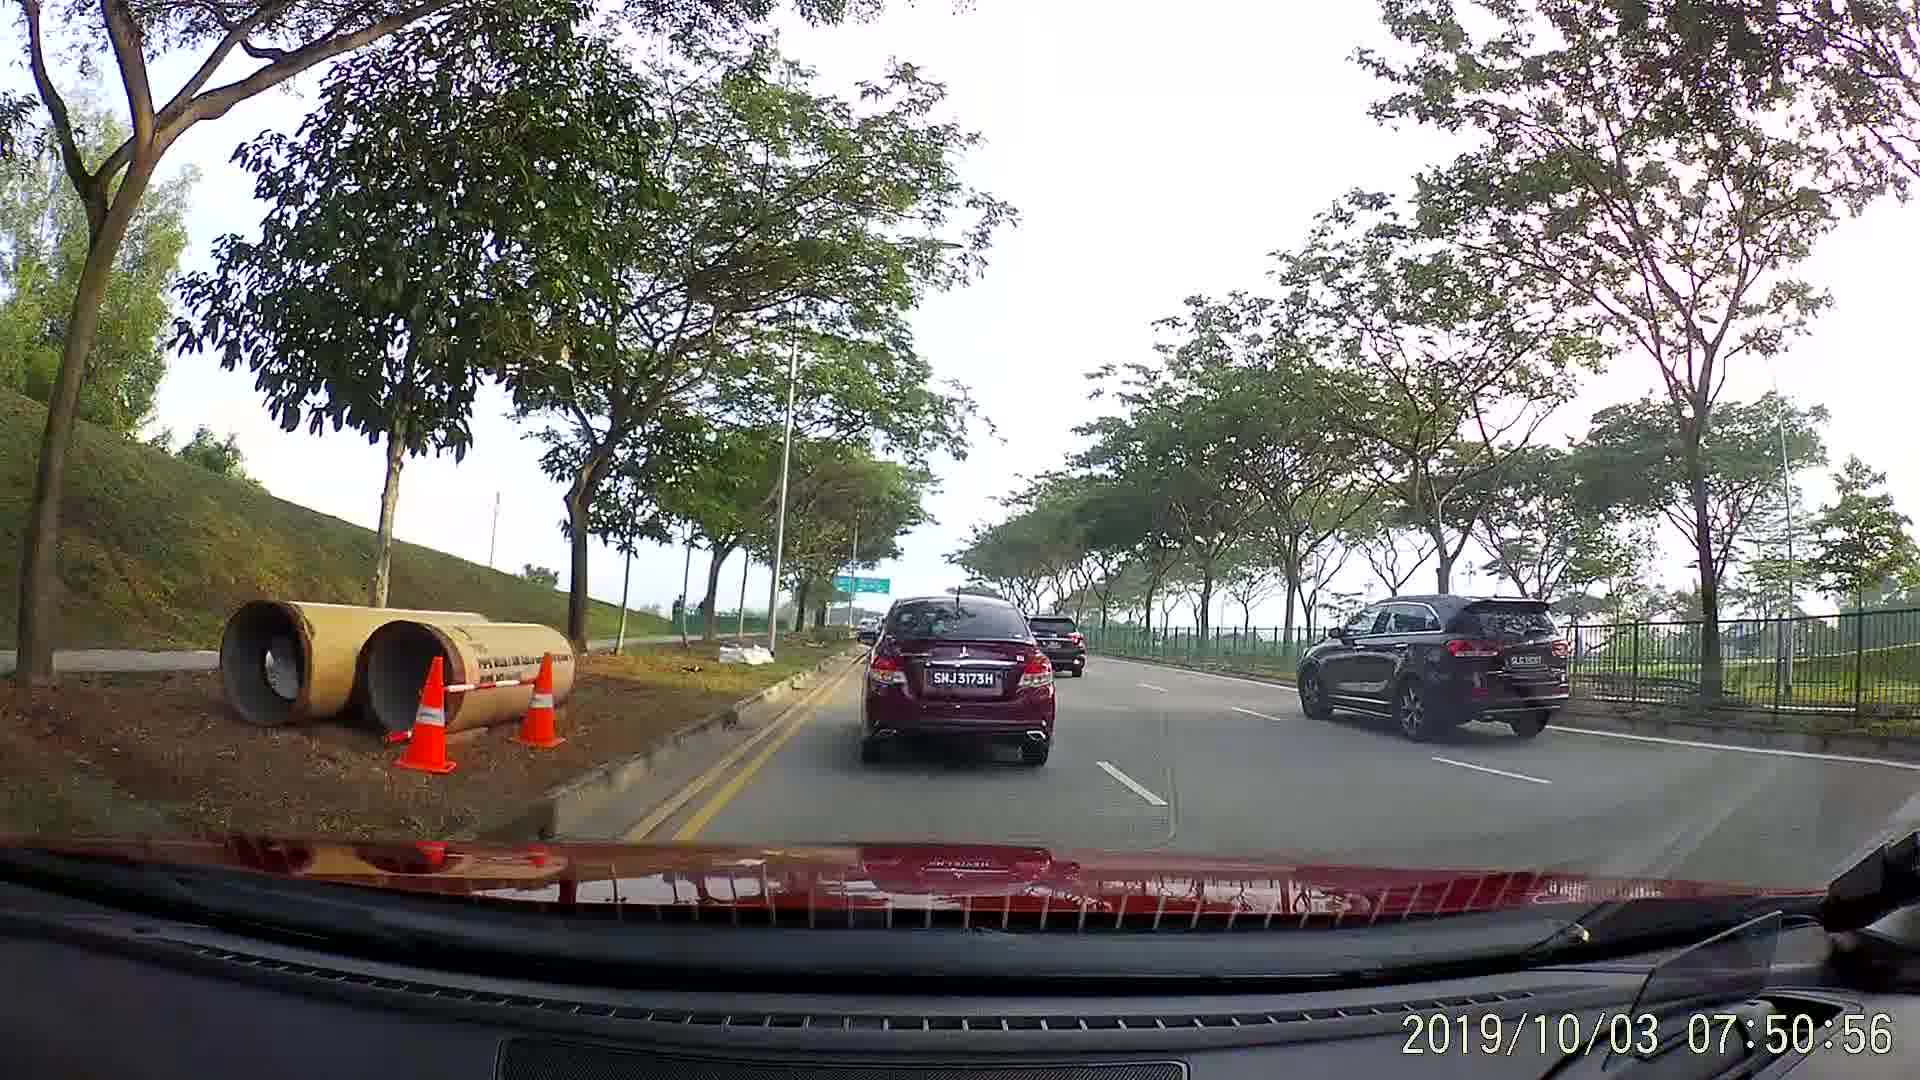car: (1296, 597, 1571, 740), (855, 593, 1058, 775), (1019, 615, 1087, 679)
